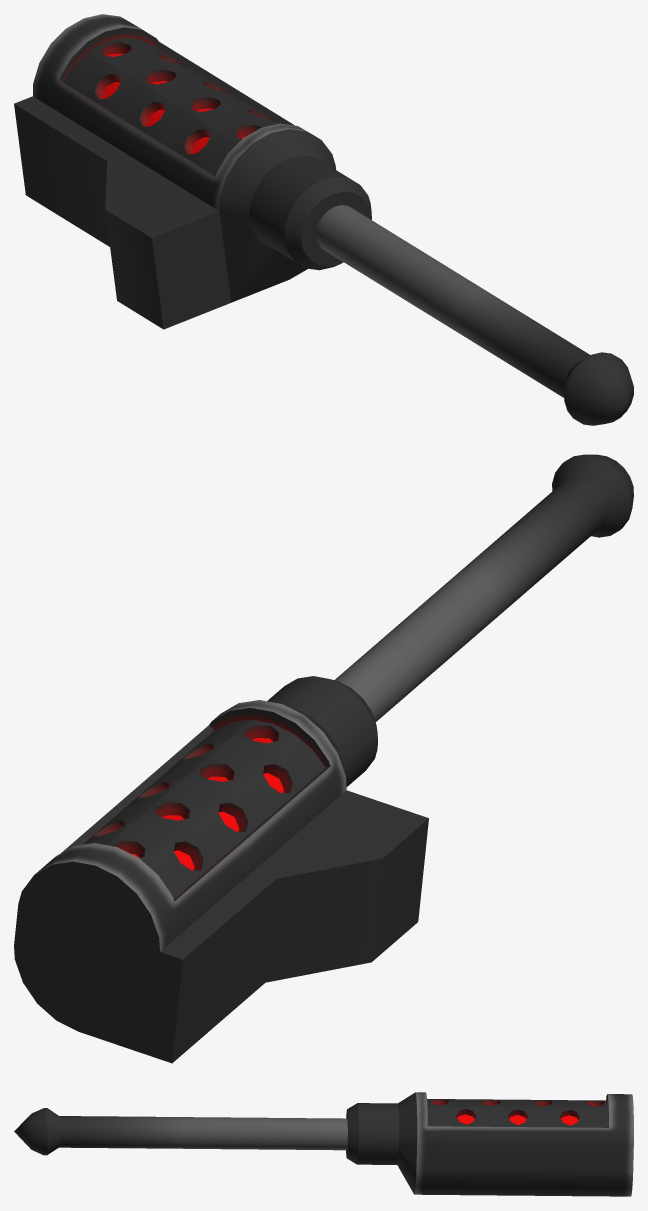
File: forreuse.fbx
The picture shows the model from 3 angles, top to bottom: view 1: azimuth 30°, elevation 25°; view 2: azimuth 150°, elevation 25°; view 3: azimuth 270°, elevation 25°; orthographic projection. The views are drawn at different scales.
Visible parts, largest first — view 1: group9_pCylinder12; view 2: group9_pCylinder12; view 3: group9_pCylinder12.
Part boxes in pixels (x1,y1,x2,y2): group9_pCylinder12: (14,14,633,425); group9_pCylinder12: (14,454,633,1063); group9_pCylinder12: (14,1092,633,1196).
Bounding box in the file's own units: 0.2536 × 0.2077 × 1.11.
1 material, 1 textured.
